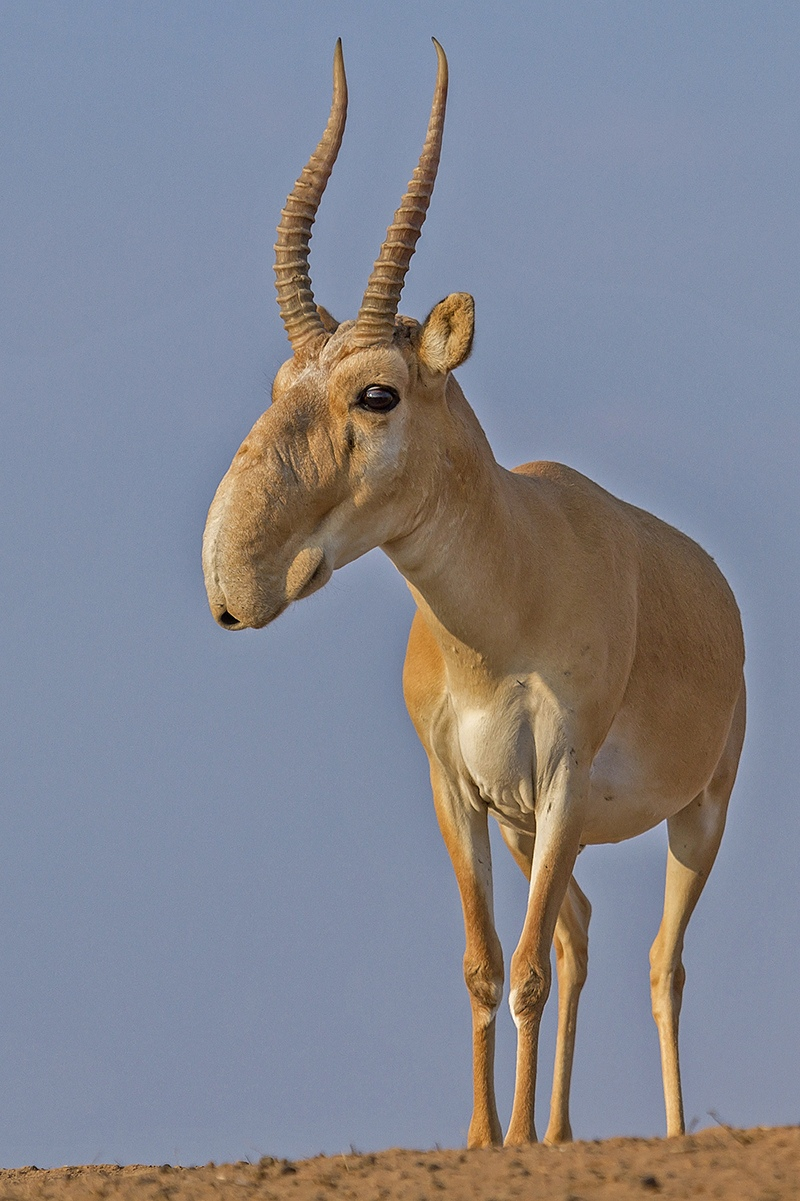saiga: (212, 27, 770, 1146)
